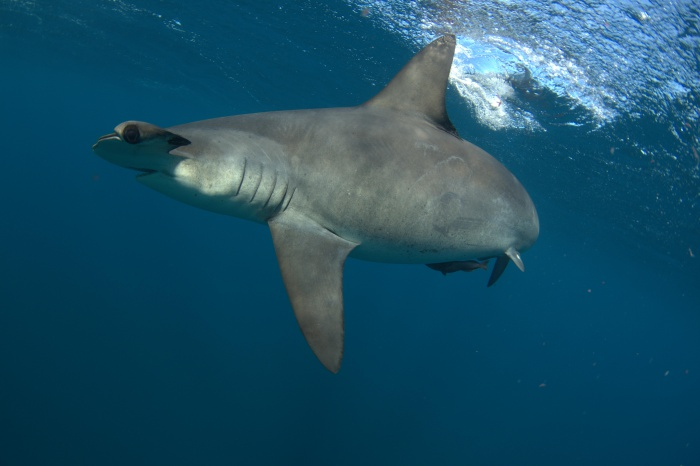Hammer: (68, 15, 574, 389)
